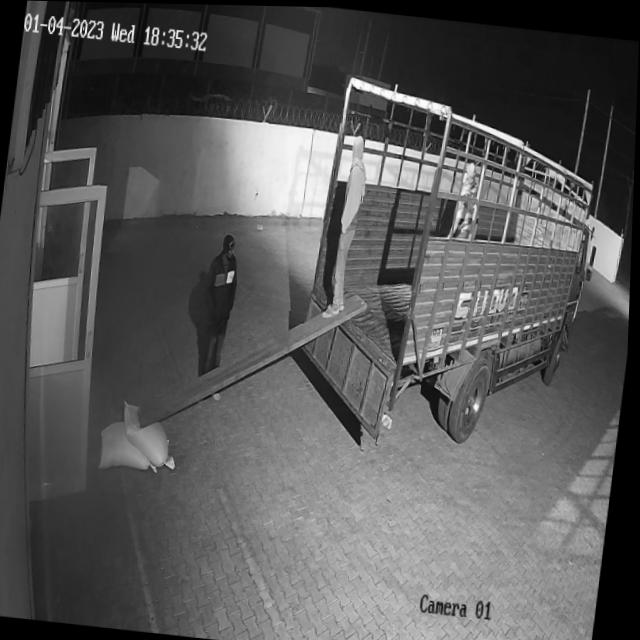sack: (118, 398, 184, 469), (98, 417, 165, 472)
